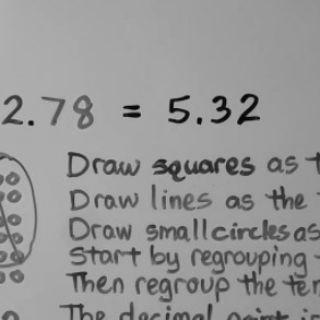.: (26, 118, 36, 128), (195, 114, 204, 125)
2: (1, 93, 24, 128), (237, 93, 262, 125)
3: (210, 92, 232, 124)
5: (166, 94, 191, 125)
7: (40, 92, 67, 129)
8: (71, 94, 96, 131)
